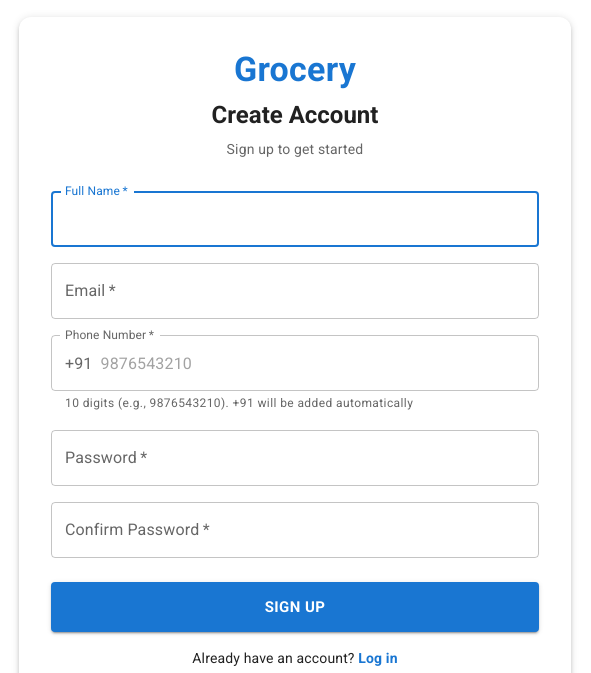
Scenario: SignupPage Component › Name Validation › shows error when name is too short
The width and height of the screenshot is (591, 673).
Type "Jo" into the field labelled "Full Name *" at (295, 219), box [51,191,539,247]
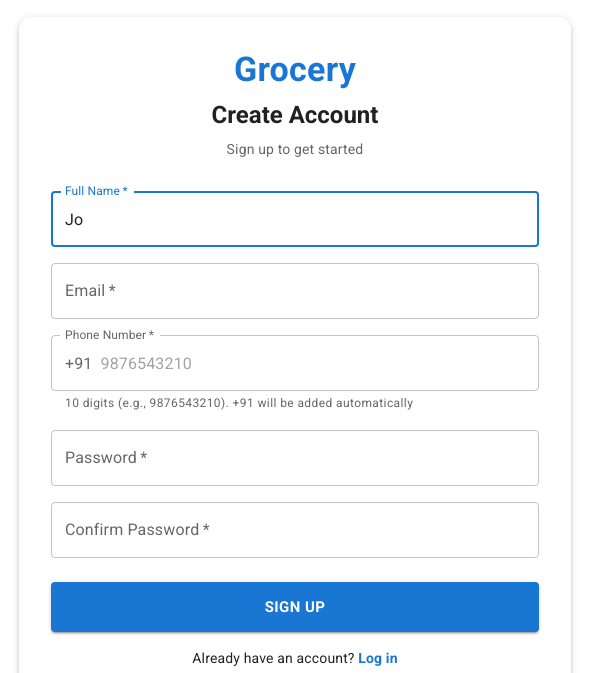
Leave the field labelled "Full Name *", box [51,191,539,247]
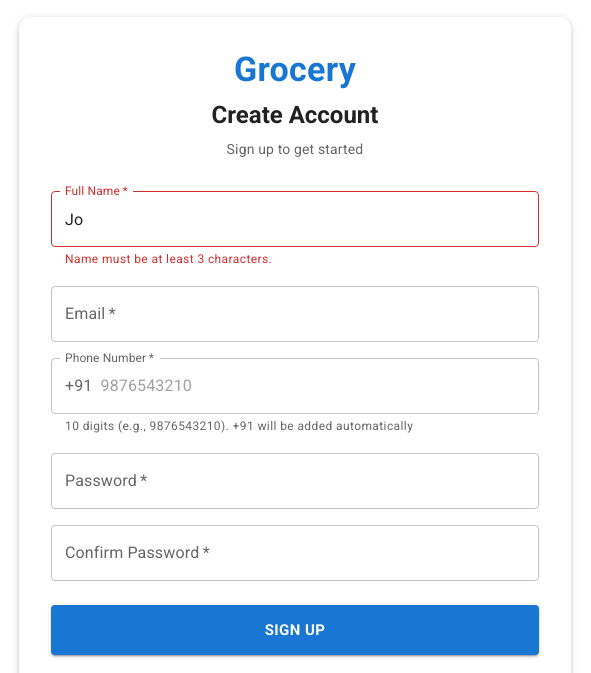
Expected: the text "Name must be at least 3 characters." is shown, [65,252,272,266]
